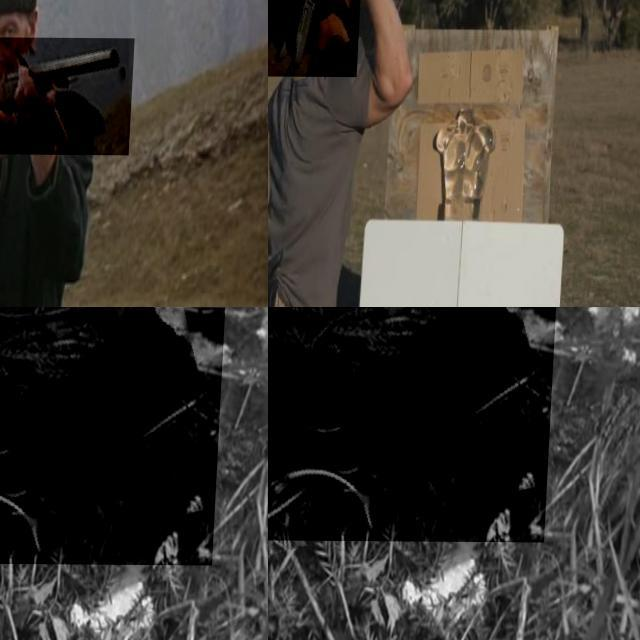-: (268, 0, 365, 80)
gun-knife-thesis - v11 Yolov5 augmented: (268, 307, 559, 541), (0, 307, 227, 564), (0, 36, 137, 154)
